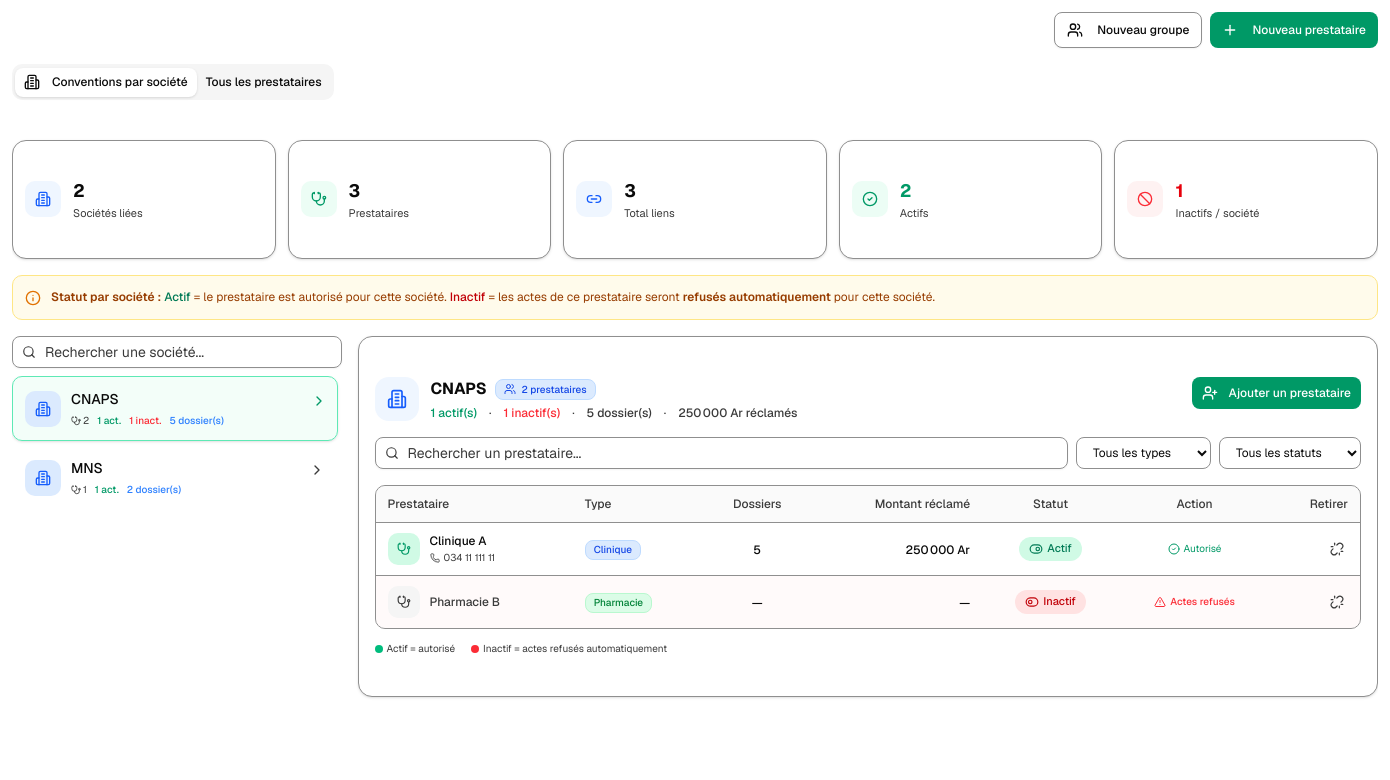
Test: PrestatairesView — annuaire, fiche détaillée et modification › recherche et filtres du panneau centralisé (nom, e-mail, NIF, Num STAT)
This screenshot has width=1390, height=780.
Click the tab "Tous les prestataires" at (264, 82), box [197,68,331,96]
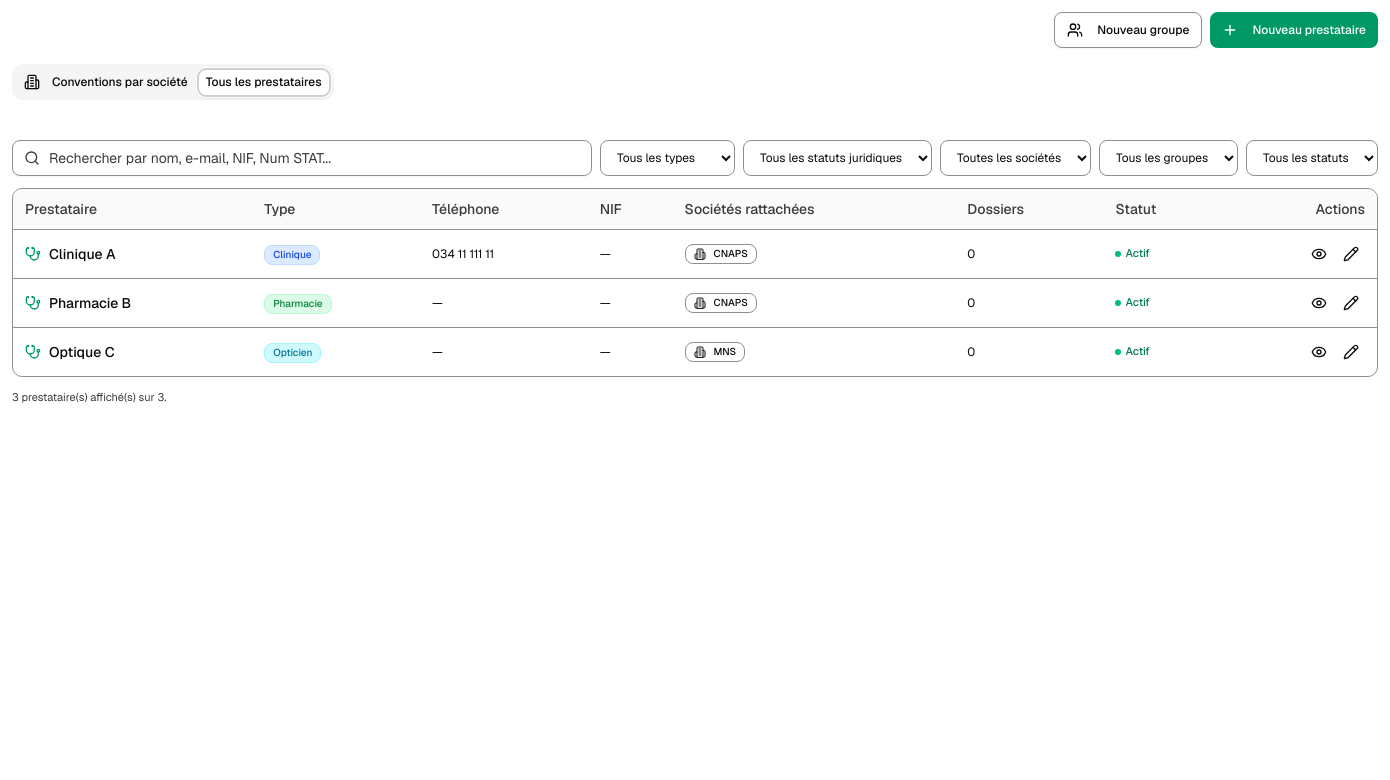
Check: the text "Clinique A" is shown, box [49,244,116,264]
Type "Pharmacie" into the field with placeholder "Rechercher par nom, e-mail, NIF, Num STAT..." at (302, 158), box [12,140,592,176]
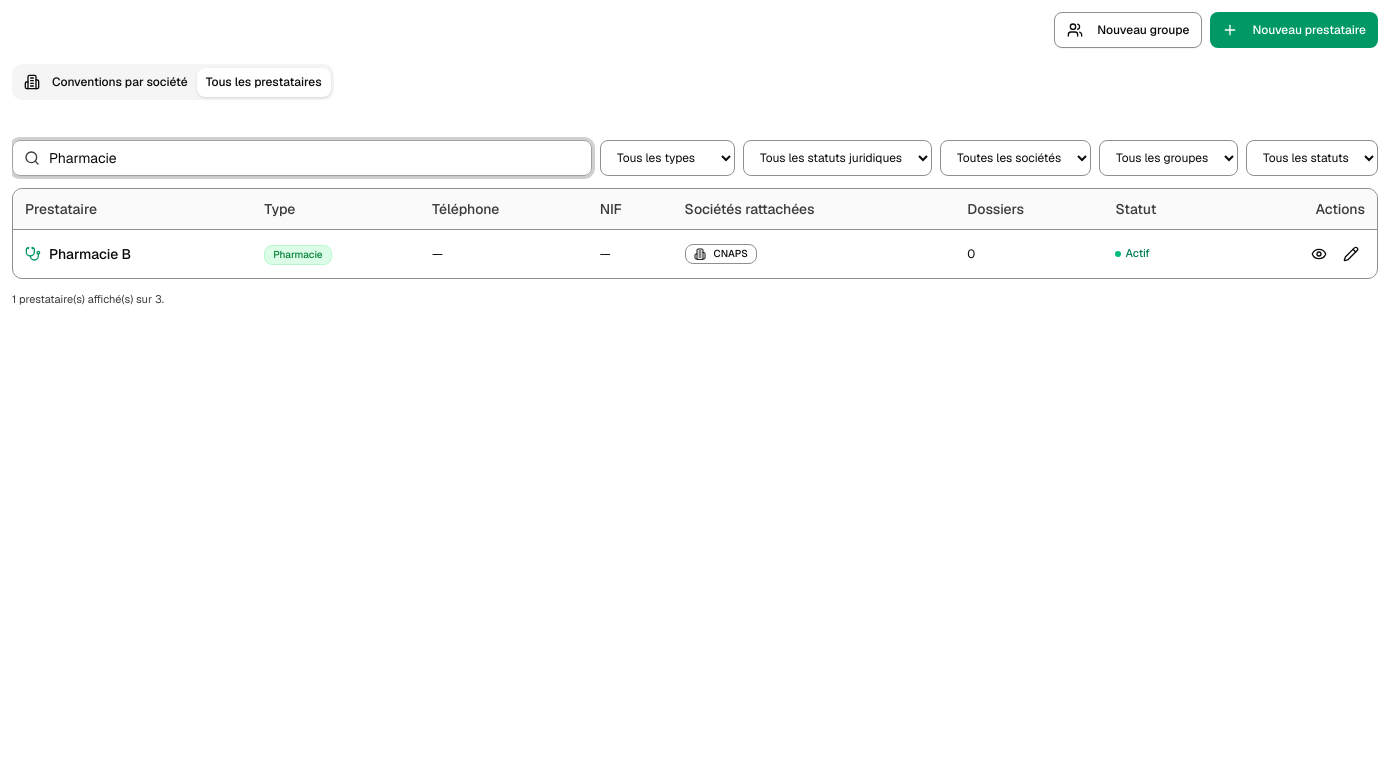
Check: the text "Pharmacie B" is shown, box [49,244,131,264]
Check: the text "Clinique A" is gone
